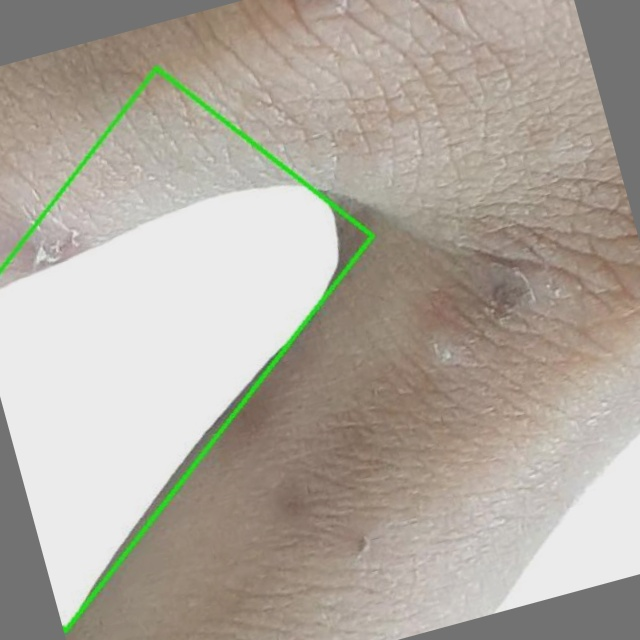Scabies: (6, 67, 400, 639)
